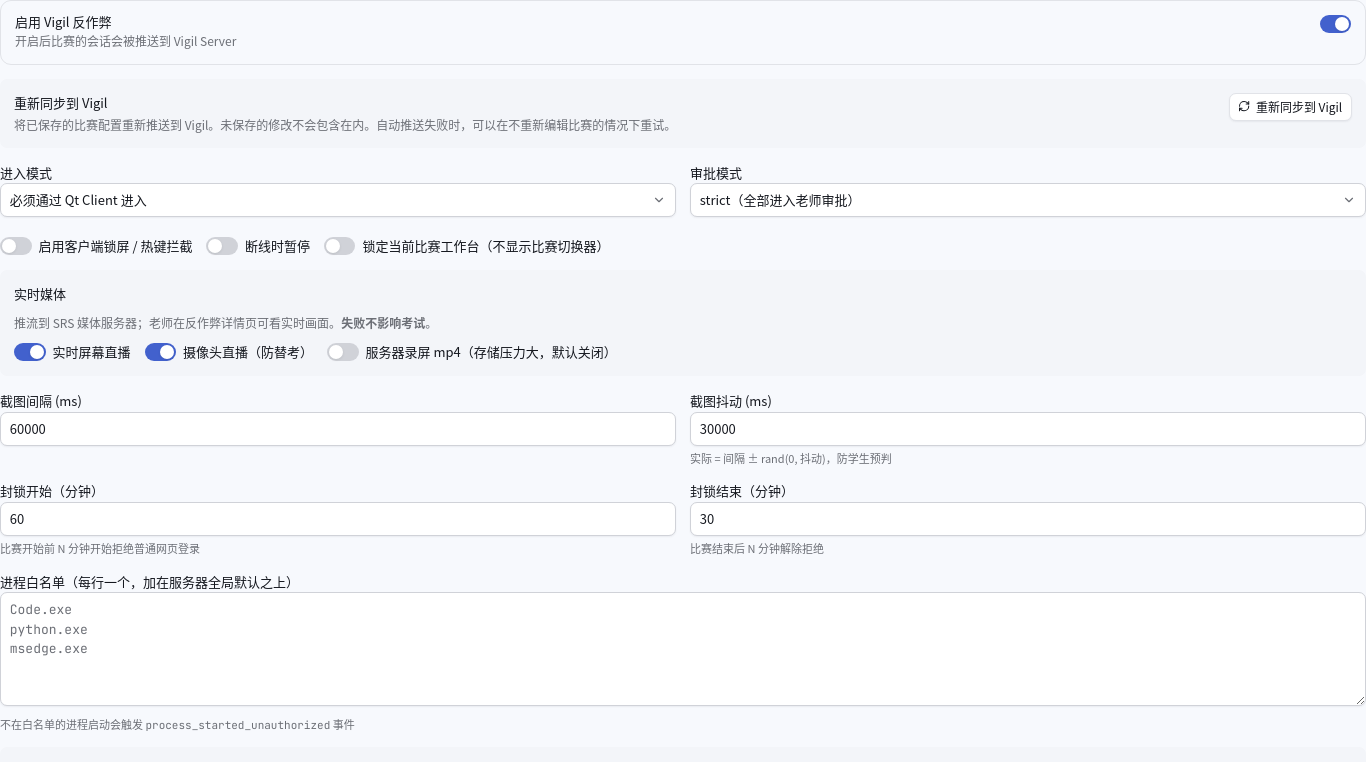
Test: contest Vigil resync control › lets a system admin POST the existing resync route for the current contest
Click the button "重新同步到 Vigil": (1290, 106) left=1229, top=92, right=1352, bottom=120
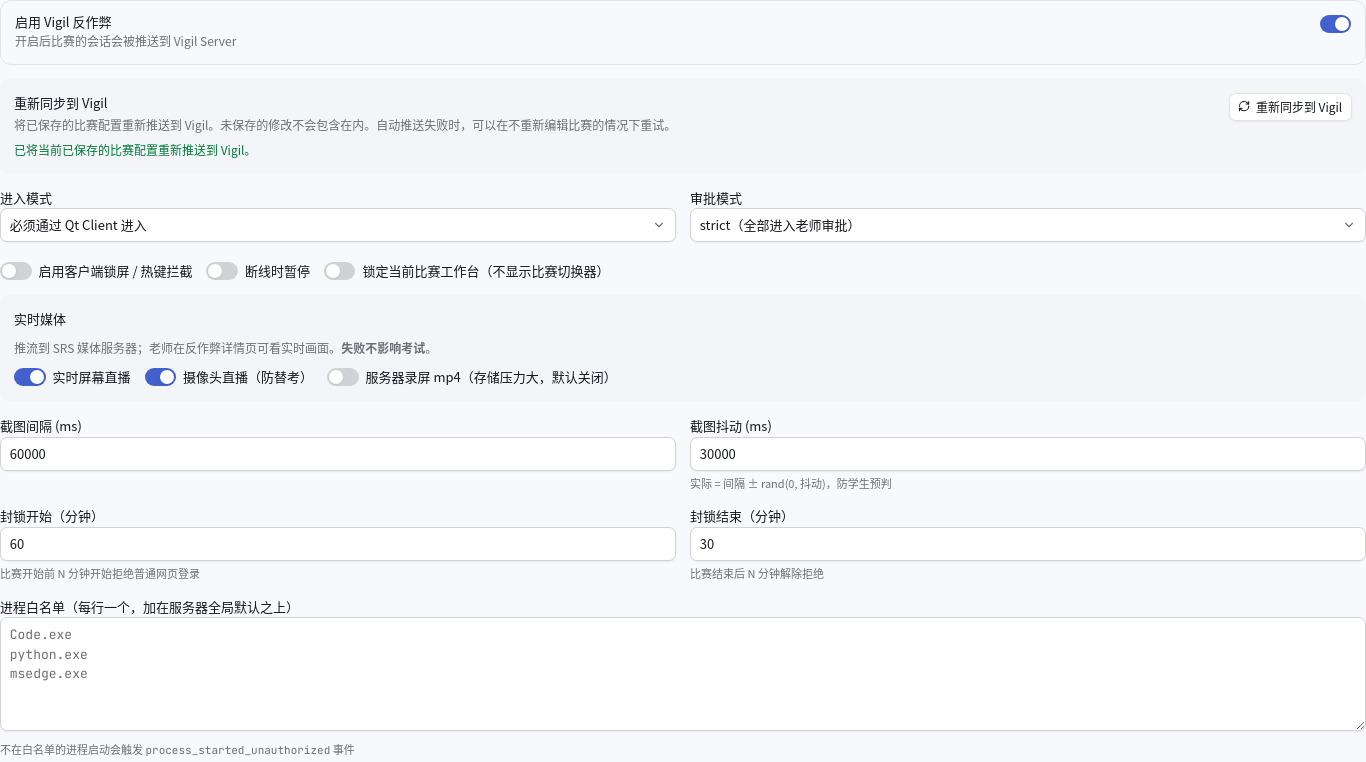
Check: the text "已将当前已保存的比赛配置重新推送到 Vigil。" is shown, box left=14, top=140, right=256, bottom=158
